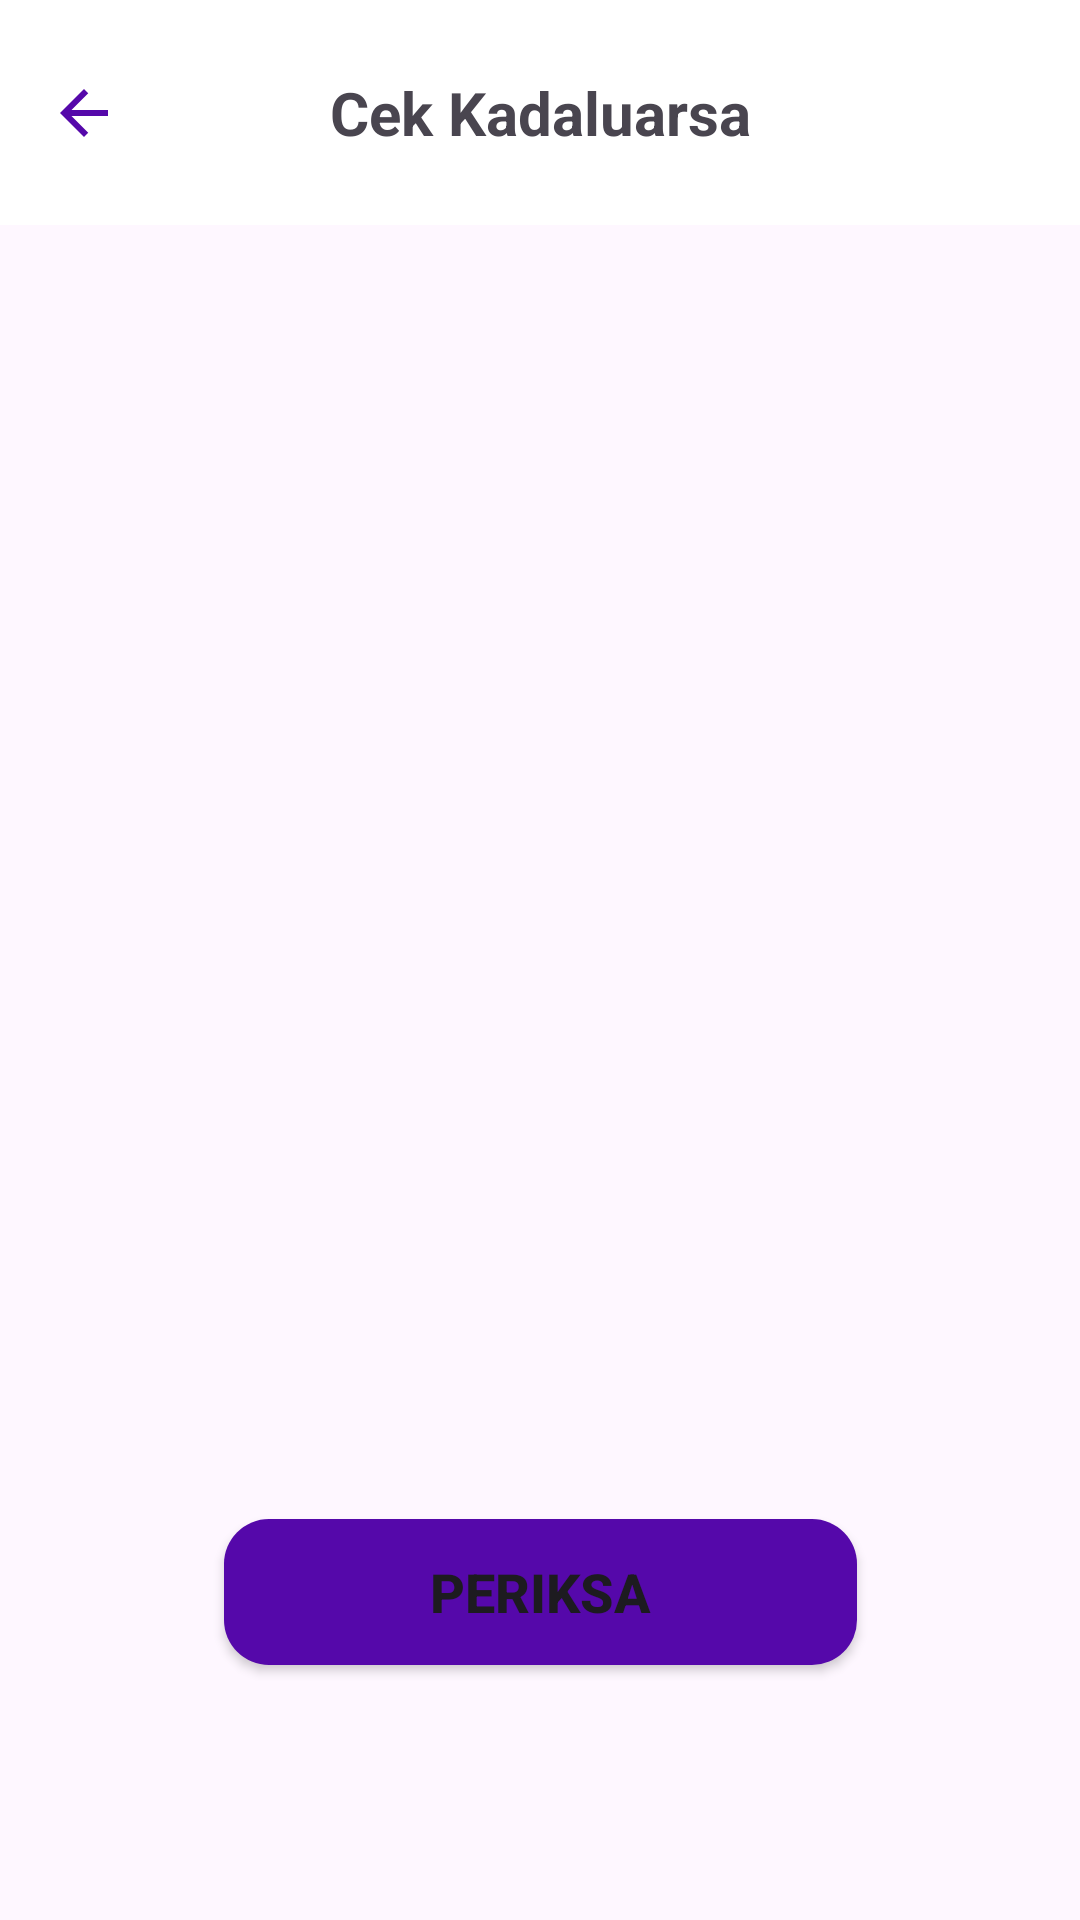

Named icons in this screenshot (1080×1920) and their bounding boxes, bbox=(x1, y1, x2, y2):
Kembali: bbox=(60, 89, 108, 137)
